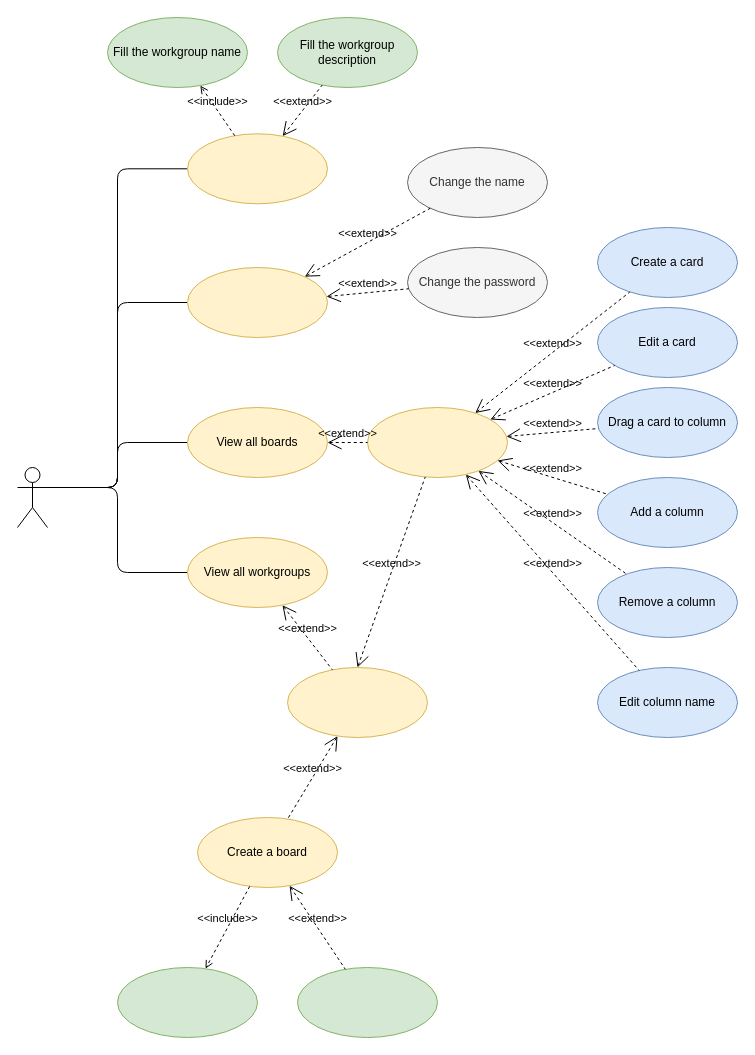
Image size: 755x1055. Some labels were removed from this diagram. Each missing label, with the centre of its shape:
"Create a workgroup" belongs at point (257, 168).
"Fill the board description" belongs at point (367, 1002).
"Fill the board name" belongs at point (187, 1002).
"Open a board" belongs at point (437, 442).
"Open a workgroup" belongs at point (357, 702).
"Open settings" belongs at point (257, 302).
"User" belongs at point (32, 497).
